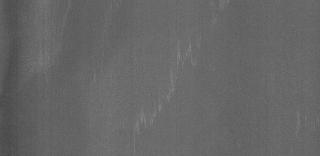silk spot: (127, 33, 213, 140)
